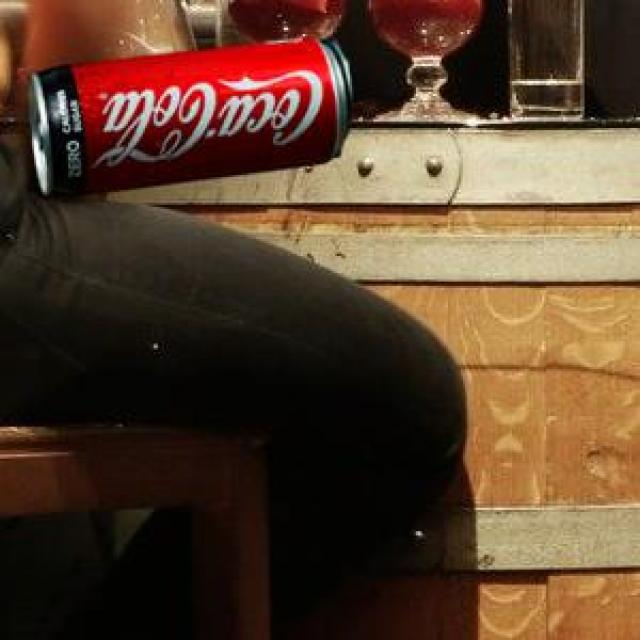logam: (25, 35, 349, 193)
